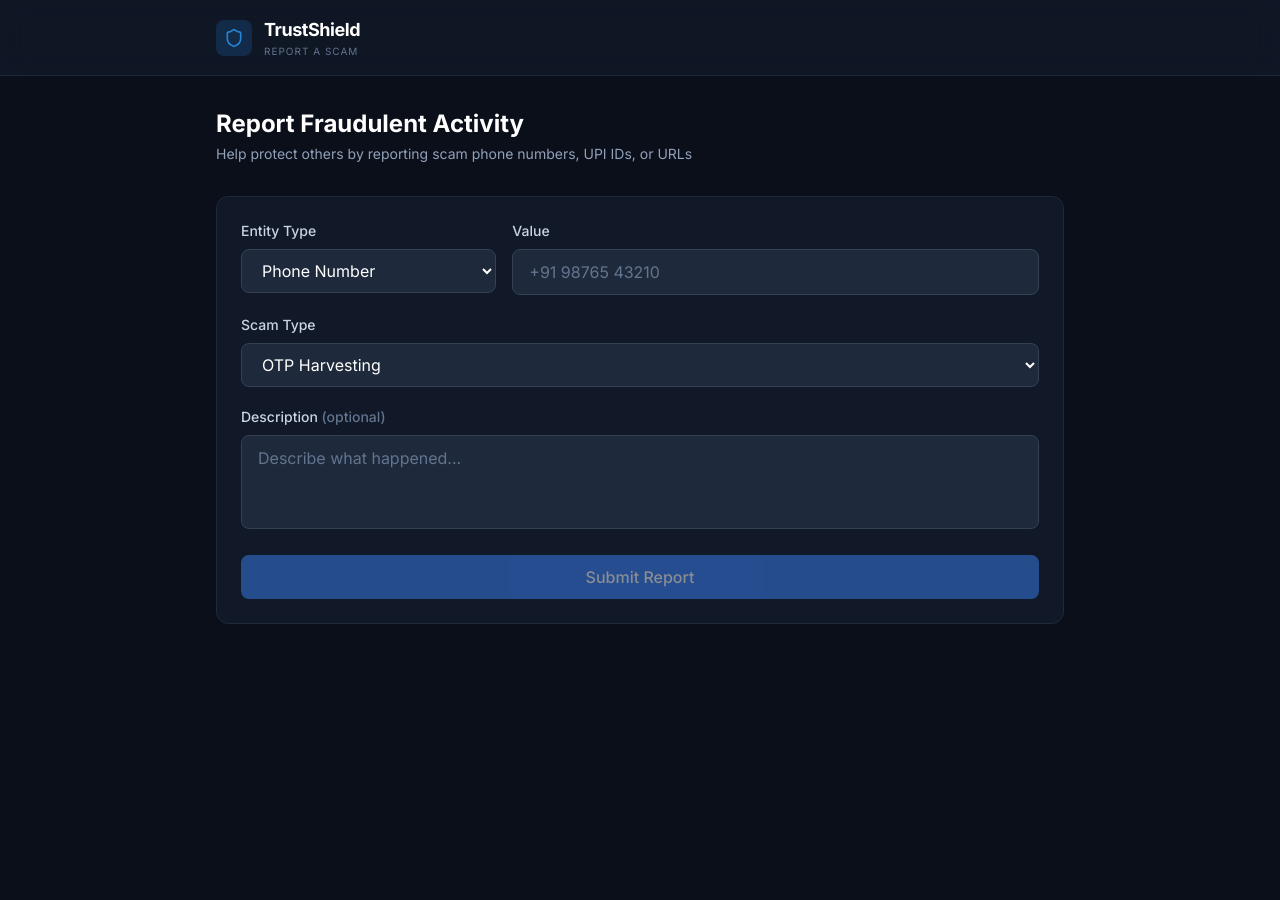
Scenario: Report Page › shows success state after submission
In the field with placeholder "+91 98765 43210": (776, 272) [512,249,1039,295], type "1234567890"
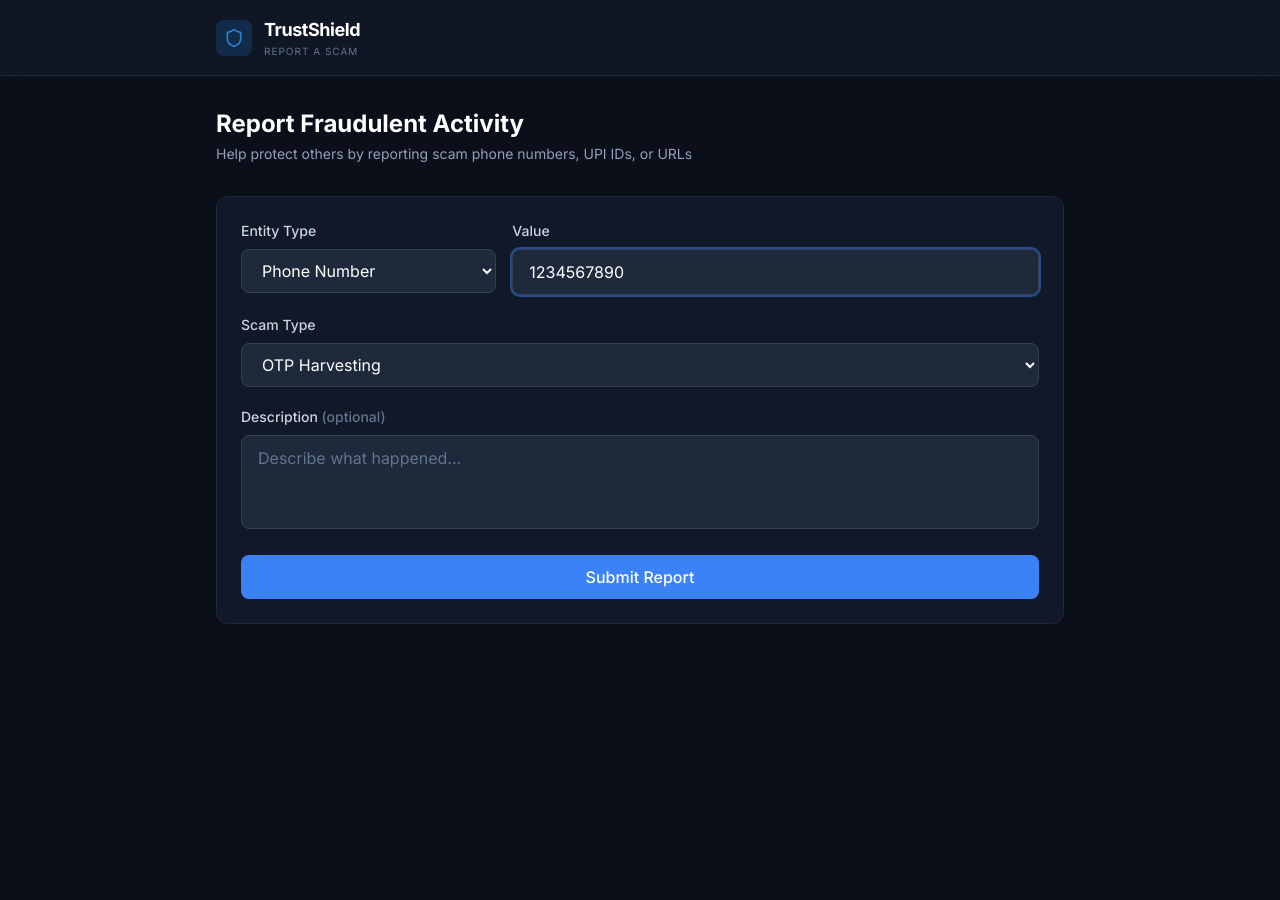
Click the button "Submit Report": (640, 577) [241,555,1039,599]
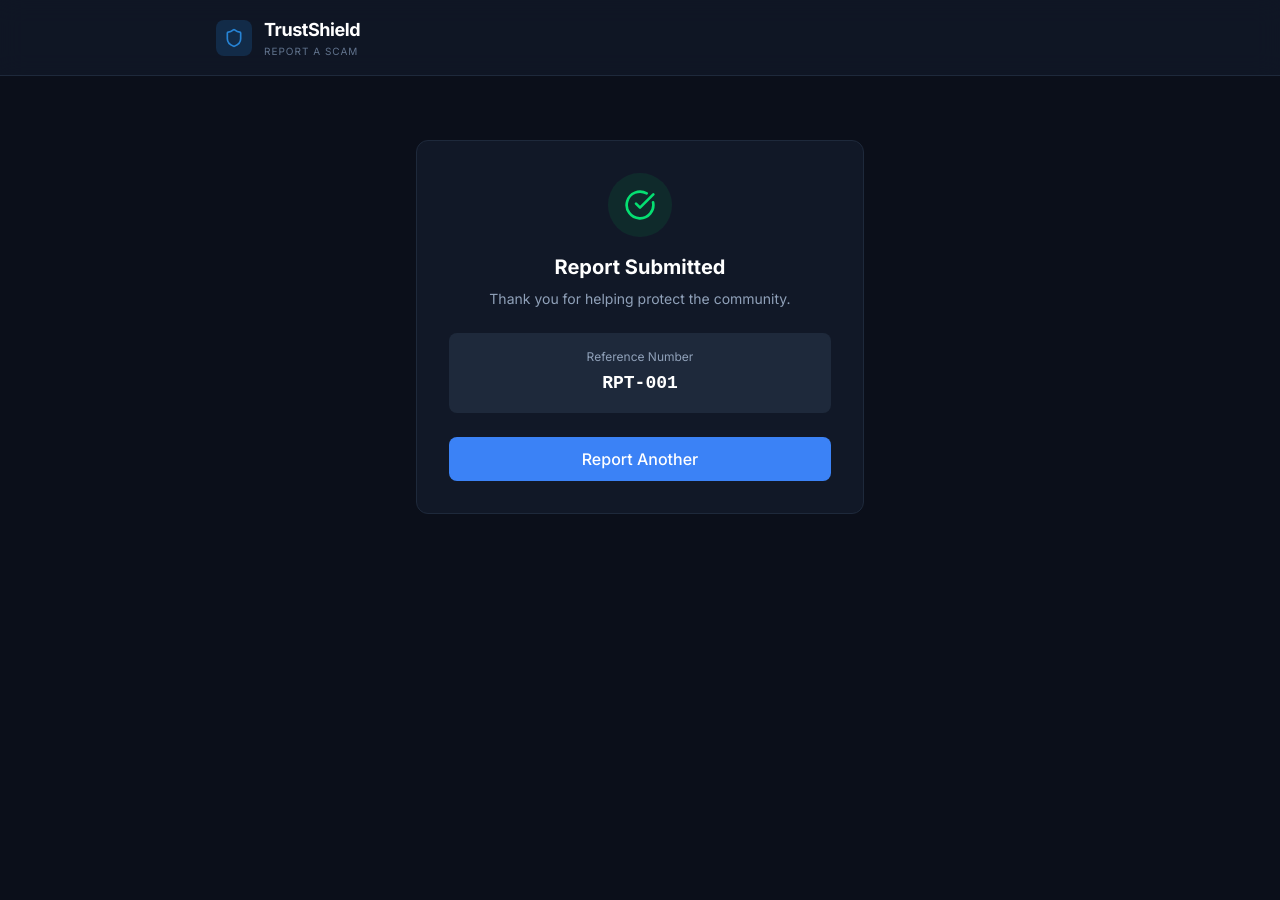
Now the heading "Report Submitted" is shown, box [555,255,726,279]
Now the text "RPT-001" is shown, box [602,373,678,393]
